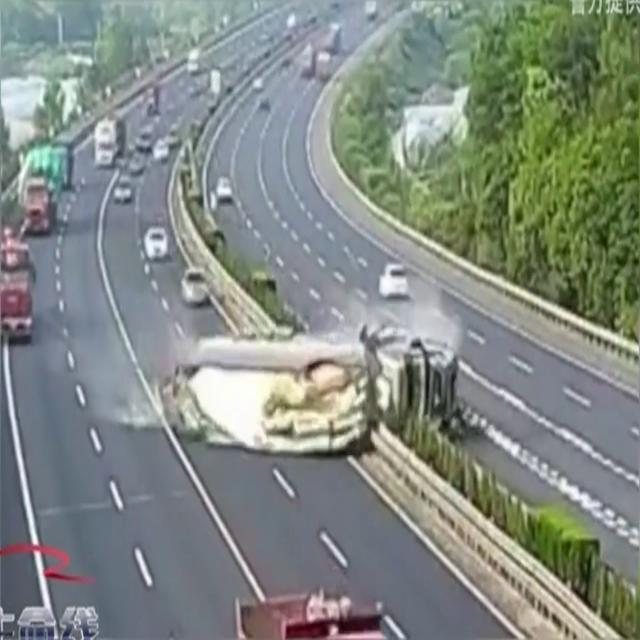accident: (116, 316, 482, 460)
non-accident: (17, 140, 75, 238), (94, 118, 154, 178), (135, 126, 183, 164), (300, 43, 332, 83)
